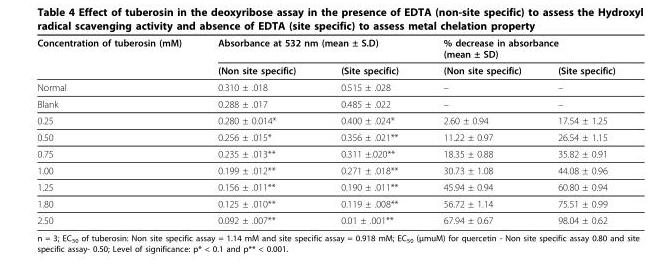table: (36, 36, 614, 225)
table column: (36, 36, 199, 225), (199, 36, 317, 225), (420, 36, 538, 225), (317, 36, 420, 225), (538, 36, 614, 225)
table column header: (36, 36, 614, 78)
table row: (36, 36, 614, 61), (36, 61, 614, 78), (36, 78, 614, 95), (36, 111, 614, 128), (36, 128, 614, 145), (36, 161, 614, 178), (36, 178, 614, 195), (36, 95, 614, 111), (36, 145, 614, 161), (36, 195, 614, 211), (36, 211, 614, 225)
table spanning cell: (36, 36, 199, 78), (199, 36, 420, 61), (420, 36, 614, 61)
